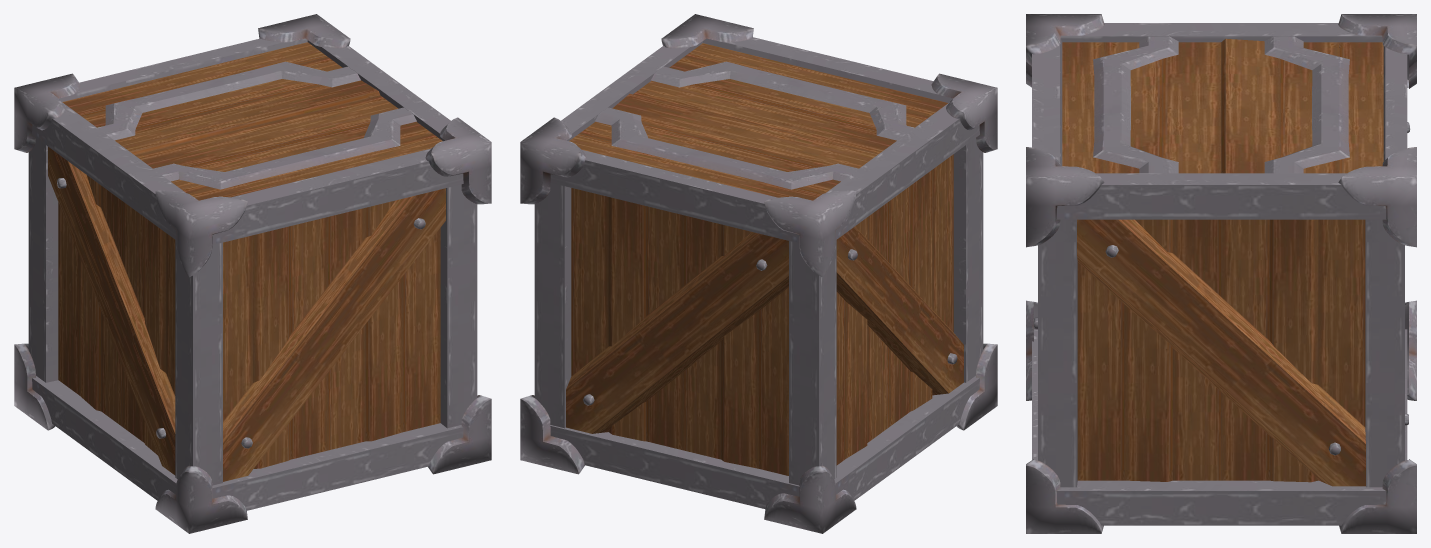
Rendered from supply_crate.glb.
3 views of the same model, side by side, from view 1: azimuth 30°, elevation 25°; view 2: azimuth 150°, elevation 25°; view 3: azimuth 270°, elevation 25° (orthographic). The views are drawn at different scales.
Visible parts, largest first — view 1: Crate_Metal; view 2: Crate_Metal; view 3: Crate_Metal.
Part boxes in pixels (left/top/right/bottom): Crate_Metal: left=14, top=14, right=491, bottom=533; Crate_Metal: left=520, top=14, right=997, bottom=533; Crate_Metal: left=1026, top=14, right=1416, bottom=533.
Size of the model in its own units: 0.8639 by 0.8679 by 0.8659.
Materials: 2 (2 with a texture image).
